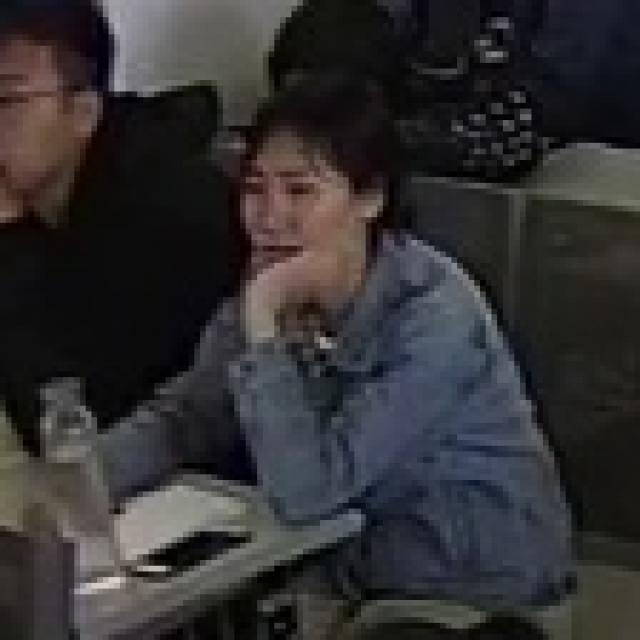listen: (98, 88, 576, 614), (0, 0, 231, 442)
